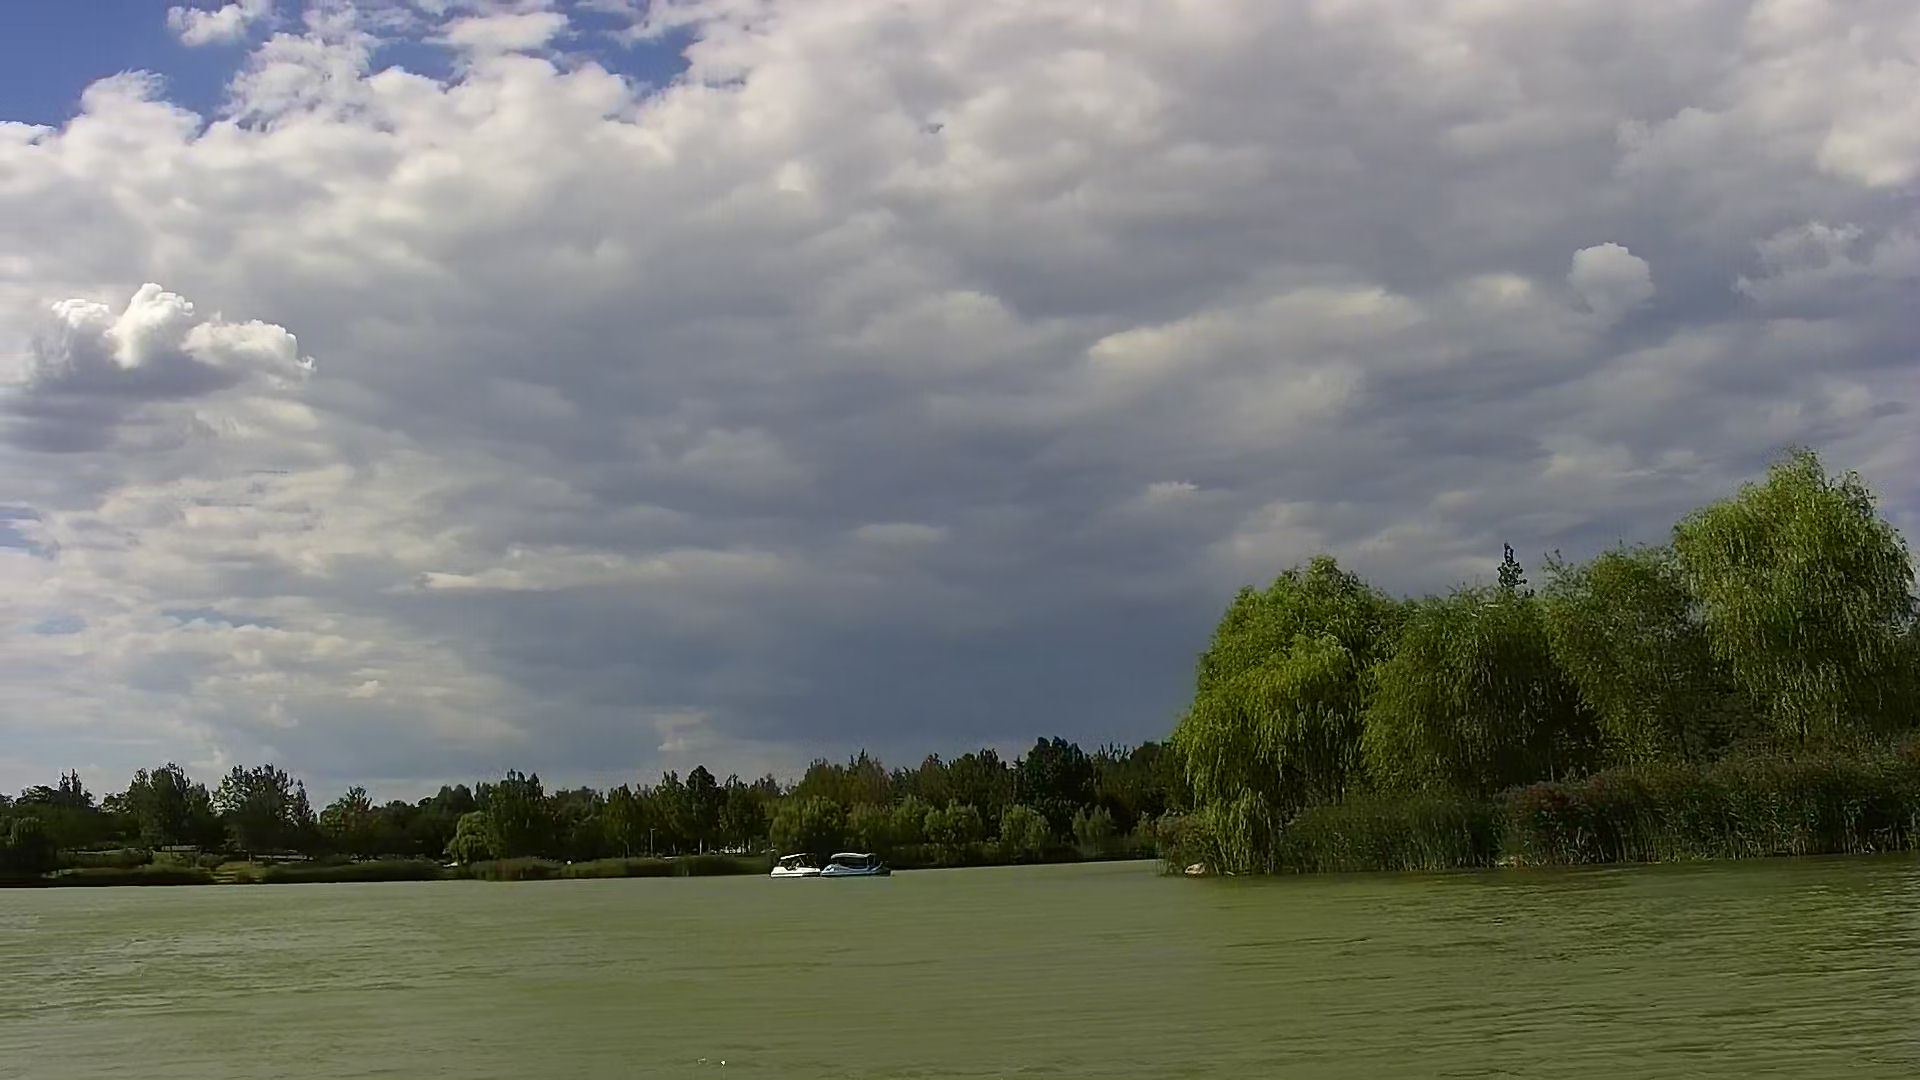boat: (818, 851, 893, 882), (766, 851, 823, 882)
rock: (1182, 860, 1211, 878)
